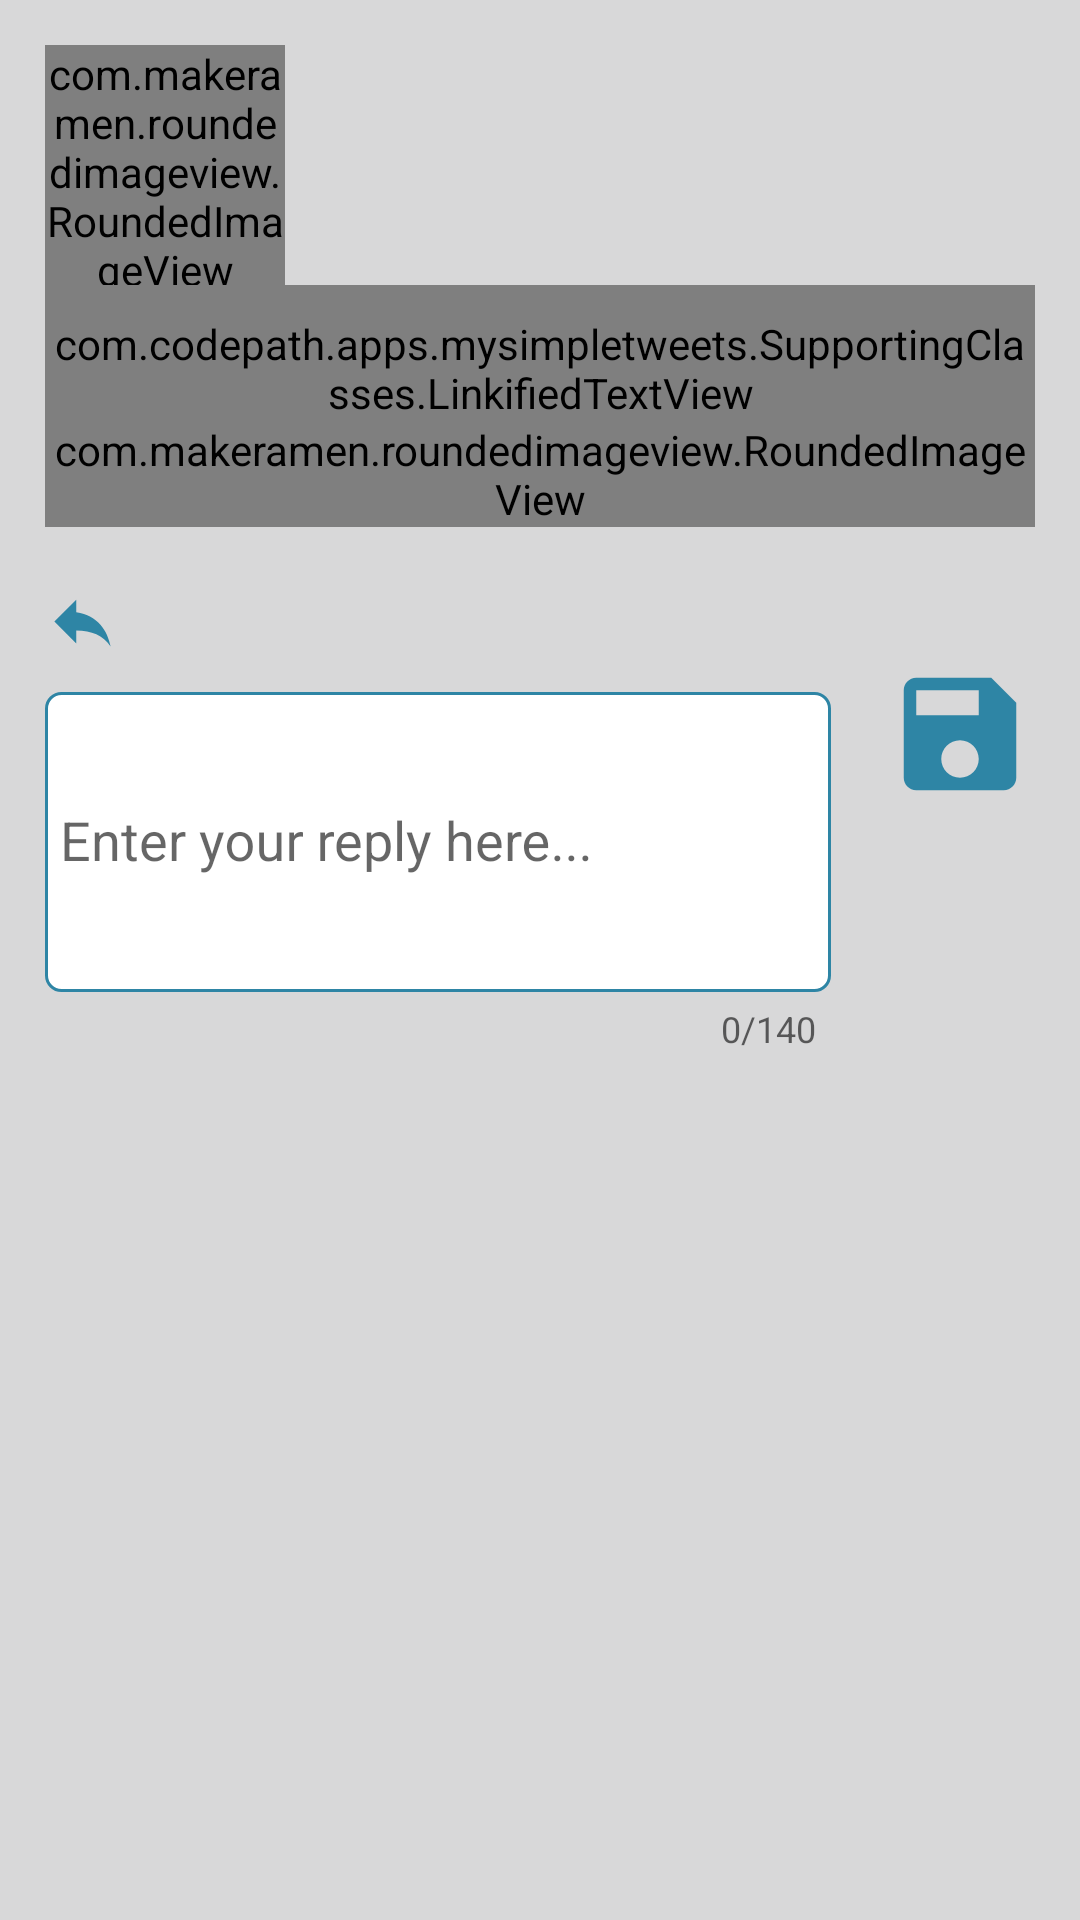

Screen size 1080*1920. Icon name, then its center in pixels as (x=x, y=y):
save: (x=960, y=734)
